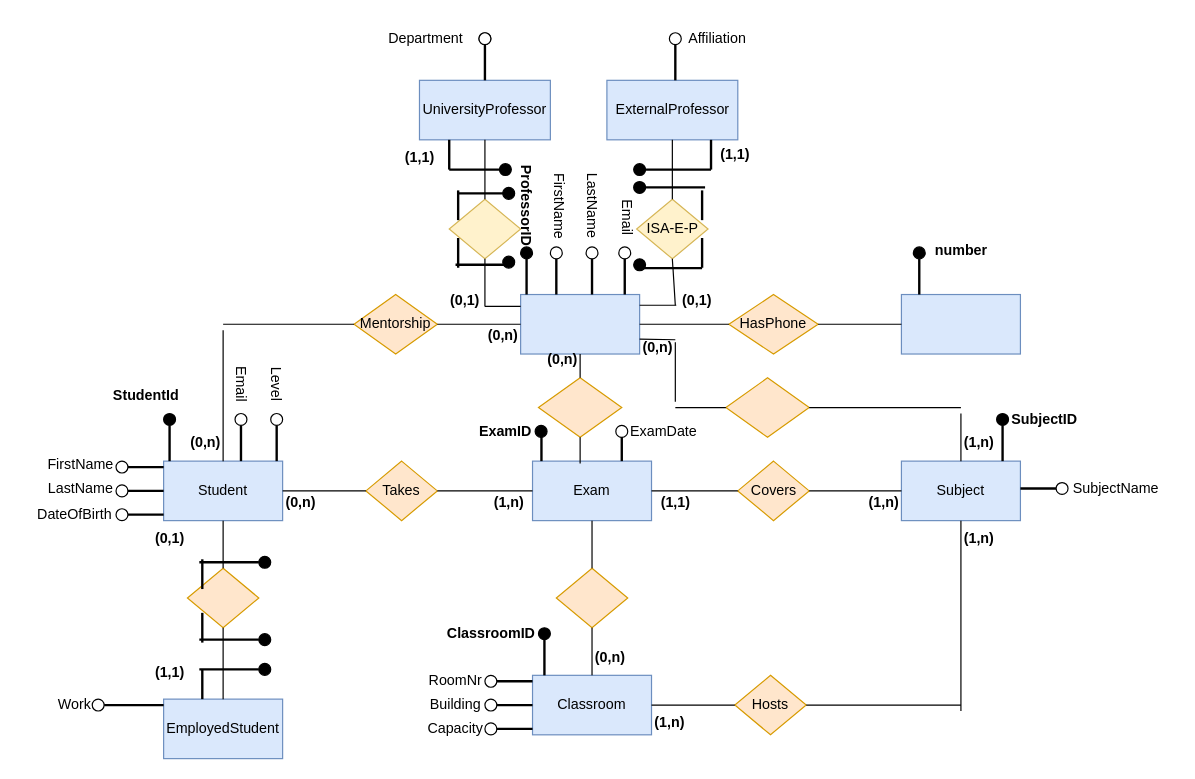
Some shapes in this 1195 by 779 pixel diagram are drawn without their labels. Here are the shapes that lost their labels. From the top down, the box of each, then its label:
(448, 198, 521, 259): ISA-U-P
(519, 293, 640, 354): Professor
(900, 293, 1020, 354): Phone
(537, 377, 622, 437): Organized
(725, 377, 809, 437): TaughtBy
(186, 567, 259, 628): ISA-E-S
(555, 567, 628, 628): HeldsIn
